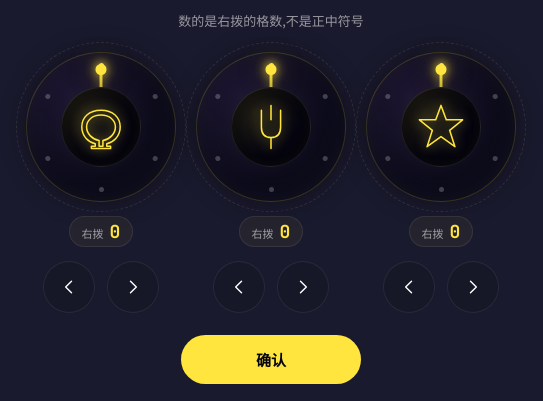
Test case: DialModule › step reading starts at 0 and tracks right (+1) / left (-1) like the position
Expected: the element with test id "dial-0-steps" shows "0", x1=110 y1=220 x2=120 y2=243
Click the button with test id "dial-0-right" at (133, 287), box x1=107 y1=261 x2=159 y2=313
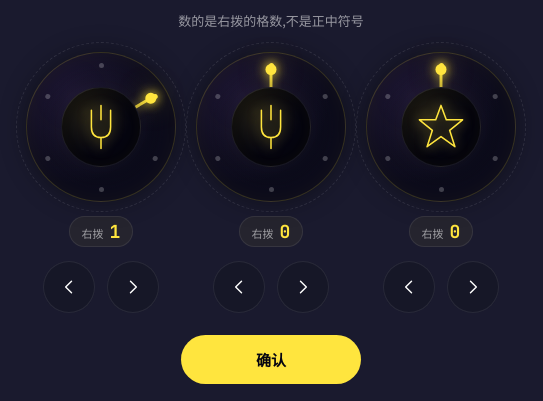
Expected: the element with test id "dial-0-steps" shows "1", x1=110 y1=220 x2=120 y2=243
Click the button with test id "dial-0-right" at (133, 287), box x1=107 y1=261 x2=159 y2=313
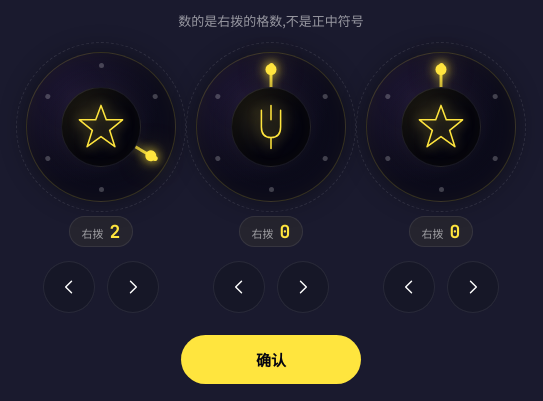
Expected: the element with test id "dial-0-steps" shows "2", x1=110 y1=220 x2=120 y2=243
Click the button with test id "dial-0-left" at (69, 287), box x1=43 y1=261 x2=95 y2=313
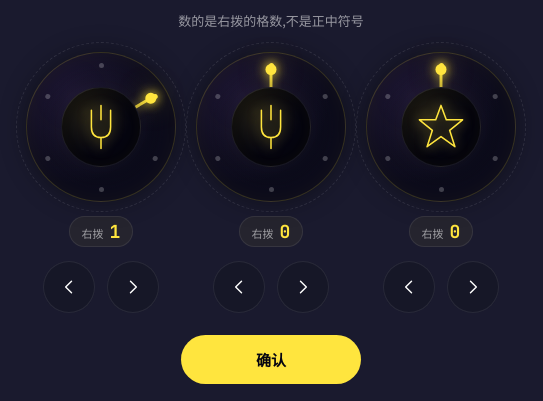
Expected: the element with test id "dial-0-steps" shows "1", x1=110 y1=220 x2=120 y2=243
Click the button with test id "dial-0-left" at (69, 287), box x1=43 y1=261 x2=95 y2=313
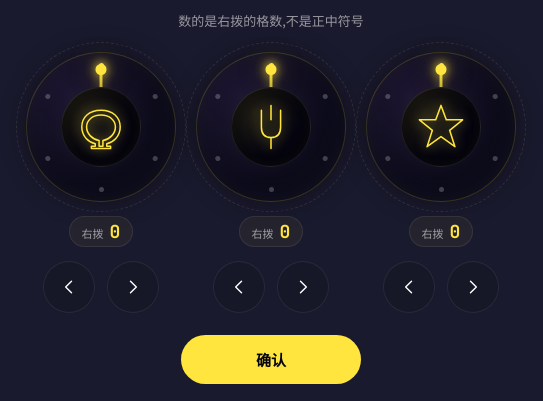
Click the button with test id "dial-0-left" at (69, 287), box x1=43 y1=261 x2=95 y2=313
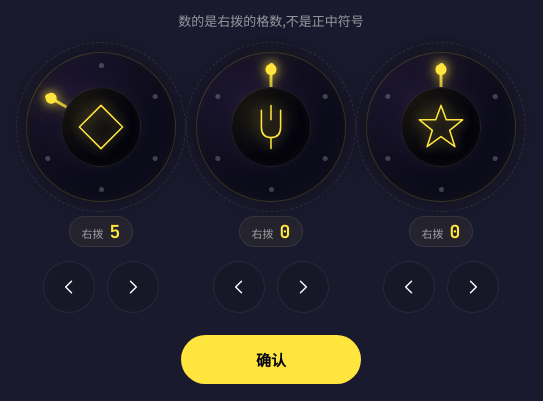
Expected: the element with test id "dial-0-steps" shows "5", x1=110 y1=220 x2=120 y2=243
